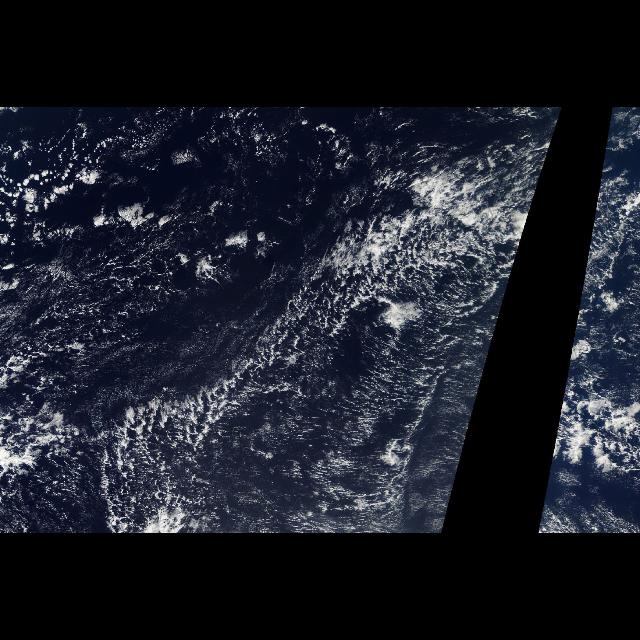Gravel: (12, 208, 472, 528)
Sugar: (291, 342, 443, 526)
